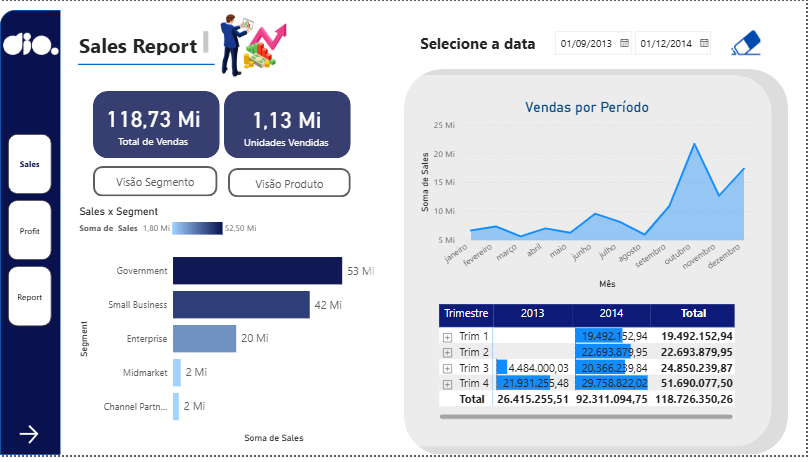

The dashboard page shown, as its layout file describes it:
{"tool":"powerbi","page":{"name":"Sales","canvas":[1280,720],"ordinal":0},"visuals":[{"type":"group","id":"g1","title":"Layout","box":[0,-0.5,511.4,720],"z":0},{"type":"shape","box":[0,13.4,96.4,706.2],"z":0,"group":"g1"},{"type":"slicer","fields":{"Values":["financials.Date"]},"box":[867.2,38.7,272.2,55],"z":0,"group":"g3"},{"type":"shape","box":[123.8,84.5,217.2,33],"z":0,"group":"g4"},{"type":"shape","box":[147.2,142.2,201.4,106.8],"z":0,"group":"g2"},{"type":"areaChart","title":"Vendas por Período","fields":{"Category":["financials.Date.Variation.Hierarquia de datas.Ano","financials.Date.Variation.Hierarquia de datas.Mês"],"Y":["Sum(financials. Sales)"]},"box":[661.6,156.1,539.7,306.2],"z":0,"group":"g6"},{"type":"barChart","title":"Sales x Segment","fields":{"Category":["financials.Segment"],"Y":["Sum(financials. Sales)"]},"box":[120.4,323.9,479.3,383],"z":0,"group":"g5"},{"type":"image","title":"logo_dio","box":[0,35.7,98.2,63.2],"z":1000,"group":"g1"},{"type":"textbox","box":[120.4,43.1,215.2,48.5],"z":1000,"group":"g4"},{"type":"textbox","box":[661.6,44.7,199.6,45.6],"z":1000,"group":"g3"},{"type":"shape","box":[355.9,142.2,201.4,106.8],"z":1000,"group":"g2"},{"type":"actionButton","title":"Botão - Next","box":[25.9,669,48.8,39.6],"z":1000},{"type":"image","box":[322.6,-0.5,188.8,141.2],"z":2000,"group":"g1"},{"type":"actionButton","box":[1153.4,43.3,59.9,51.3],"z":2000,"group":"g3"},{"type":"group","id":"g2","title":"Cartões","box":[147.2,141.2,410.3,107],"z":2000},{"type":"card","fields":{"Values":["Sum(financials. Sales)"]},"box":[161.1,141.2,162.6,106.9],"z":2000,"group":"g2"},{"type":"actionButton","title":"B-Segmento","box":[147.8,261.6,197.5,48.4],"z":2000,"group":"g5"},{"type":"group","id":"g3","title":"Filtro por data","box":[661.6,38.7,551.5,55],"z":3000},{"type":"image","title":"clean","box":[1153.4,39,59.9,55.6],"z":3000,"group":"g3"},{"type":"card","fields":{"Values":["Sum(financials.Units Sold)"]},"box":[375.8,145.4,156.5,98.6],"z":3000,"group":"g2"},{"type":"actionButton","title":"B-Produto","box":[362.2,264.3,194.6,46.3],"z":3000,"group":"g5"},{"type":"shape","box":[640.7,108.5,609.5,612.5],"z":4000},{"type":"group","id":"g4","title":"Title report","box":[120.4,43.1,221.5,74.3],"z":5000},{"type":"group","id":"g5","title":"Grupo 1","box":[120.4,261.6,479.3,445.3],"z":6000},{"type":"shape","box":[584.3,117.4,640.7,590.2],"z":7000},{"type":"group","id":"g6","title":"Perspectiva temporal das vendas","box":[661.6,156.1,539.7,306.2],"z":8000},{"type":"pivotTable","fields":{"Values":["Sum(financials. Sales)"],"Columns":["financials.Date.Variation.Hierarquia de datas.Ano"],"Rows":["financials.Date.Variation.Hierarquia de datas.Trimestre","financials.Date.Variation.Hierarquia de datas.Mês"]},"box":[692.8,475.7,478.7,193.3],"z":9000},{"type":"pageNavigator","box":[13.4,211.1,69.9,306.2],"z":10000}]}

Visuals, with their boxes in screenshot pixels (x1, y1, x2, y2), scaled from the page's 1280x720 canvas onto the 811x462 screenshot:
"Layout" group: box=[0, 0, 324, 461]
shape: box=[0, 9, 61, 461]
slicer - financials.Date: box=[549, 25, 722, 60]
shape: box=[78, 54, 216, 75]
shape: box=[93, 91, 221, 160]
"Vendas por Período" areaChart: box=[419, 100, 761, 297]
"Sales x Segment" barChart: box=[76, 208, 380, 454]
"logo_dio" image: box=[0, 23, 62, 63]
textbox: box=[76, 28, 213, 59]
textbox: box=[419, 29, 546, 58]
shape: box=[225, 91, 353, 160]
"Botão - Next" actionButton: box=[16, 429, 47, 455]
image: box=[204, 0, 324, 90]
actionButton: box=[731, 28, 769, 61]
"Cartões" group: box=[93, 91, 353, 159]
card - Sum(financials. Sales): box=[102, 91, 205, 159]
"B-Segmento" actionButton: box=[94, 168, 219, 199]
"Filtro por data" group: box=[419, 25, 769, 60]
"clean" image: box=[731, 25, 769, 61]
card - Sum(financials.Units Sold): box=[238, 93, 337, 157]
"B-Produto" actionButton: box=[229, 170, 353, 199]
shape: box=[406, 70, 792, 461]
"Title report" group: box=[76, 28, 217, 75]
"Grupo 1" group: box=[76, 168, 380, 454]
shape: box=[370, 75, 776, 454]
"Perspectiva temporal das vendas" group: box=[419, 100, 761, 297]
pivotTable - Sum(financials. Sales) x financials.Date.Variation.Hierarquia de datas.Ano: box=[439, 305, 742, 429]
pageNavigator: box=[8, 135, 53, 332]
